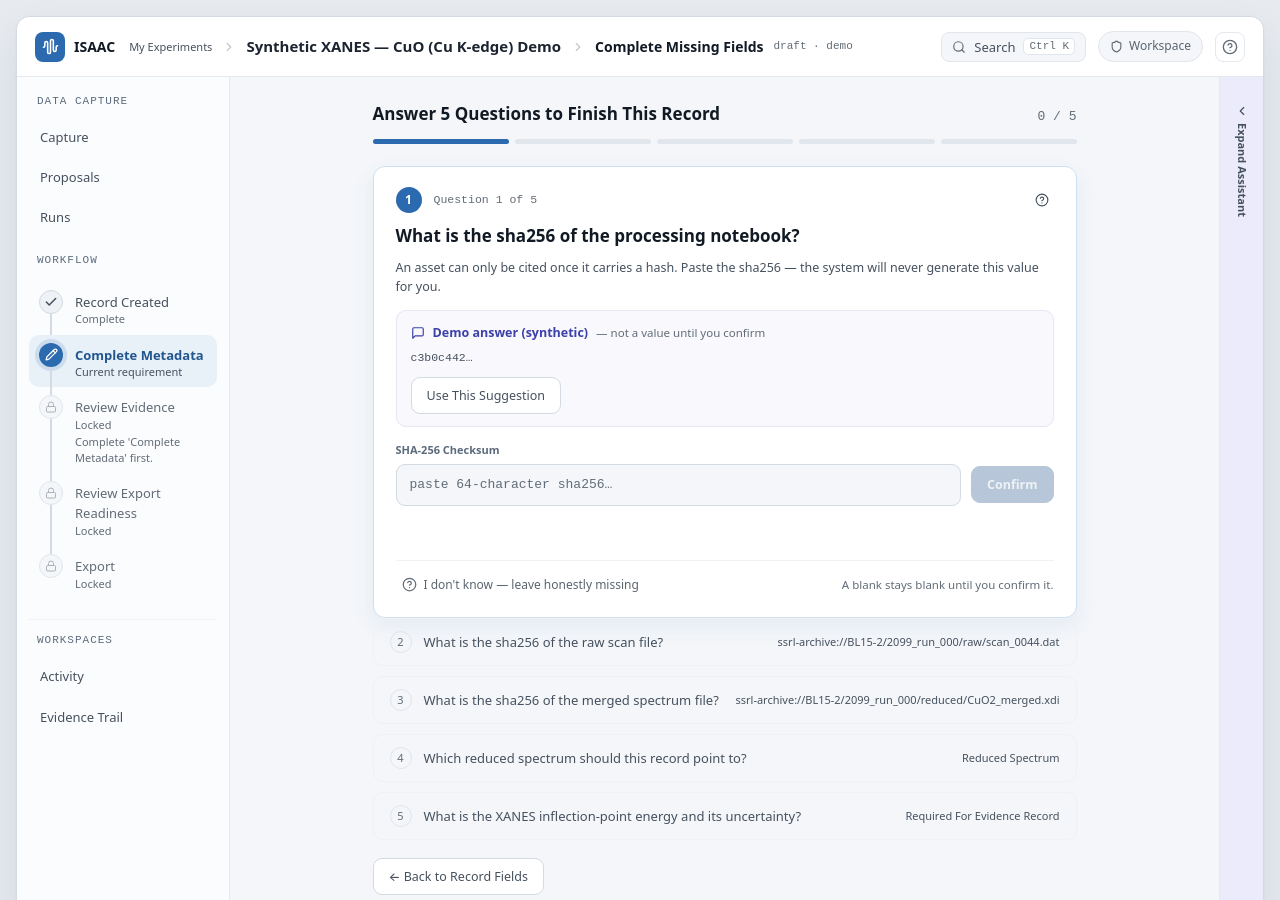
Test case: S4 · summary-first edit of a confirmed field (P28.3) › entering Edit pre-fills the current value in an inline editor
Expected: the heading "What is the sha256 of the processing notebook?" is shown, left=396, top=224, right=800, bottom=247
Type "c3b0c44298fc1c149afbf4c8996fb92427ae41e4649b934ca495991b7852b345" into the field named "Asset Hash".
click(678, 485); type("c3b0c44298fc1c149afbf4c8996fb92427ae41e4649b934ca495991b7852b345")  # box left=396, top=464, right=961, bottom=506
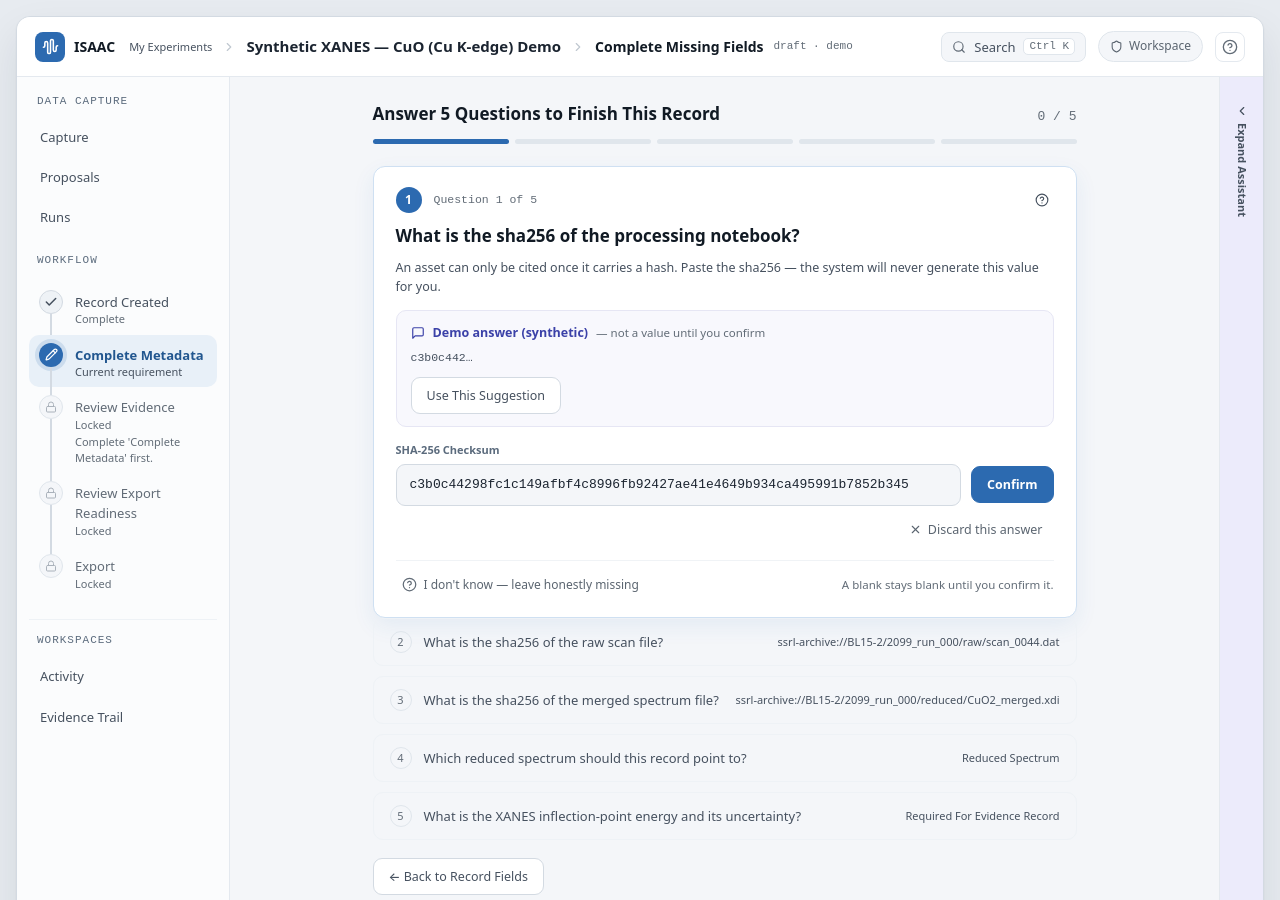
Click the button "Confirm".
click(1012, 485)  # box left=971, top=466, right=1054, bottom=503
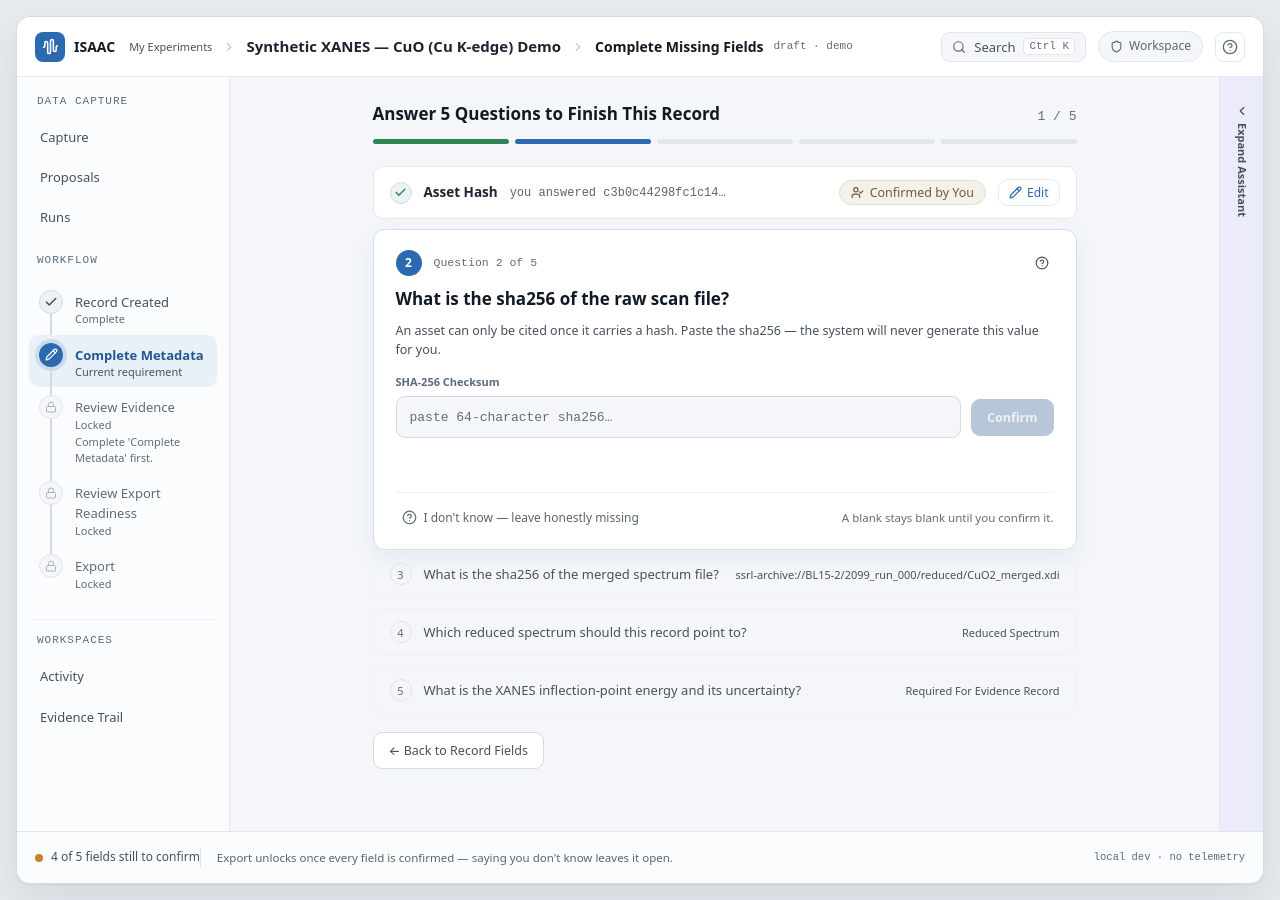
Expected: the text "you answered c3b0c44298fc1c14…" is shown, left=510, top=184, right=726, bottom=202
Click the button with aria-label "Edit Asset Hash".
click(1029, 193)  # box left=998, top=179, right=1060, bottom=206
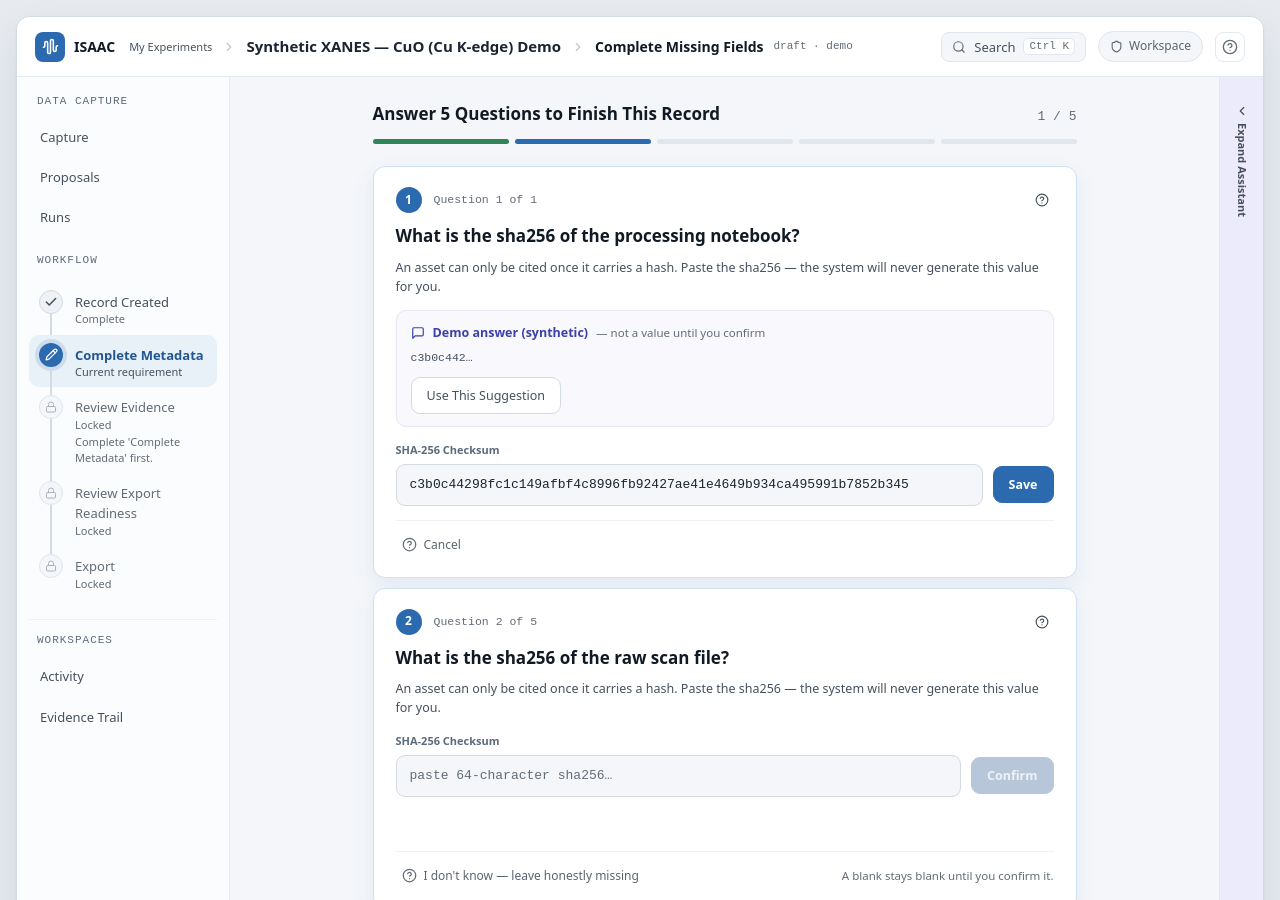
Expected: the field showing "c3b0c44298fc1c149afbf4c8996fb92427ae41e4649b934ca495991b7852b345" is shown, left=396, top=464, right=982, bottom=506
Expected: the button "Save" is shown, left=992, top=466, right=1054, bottom=503
Expected: the button "Cancel" is shown, left=396, top=533, right=467, bottom=557
